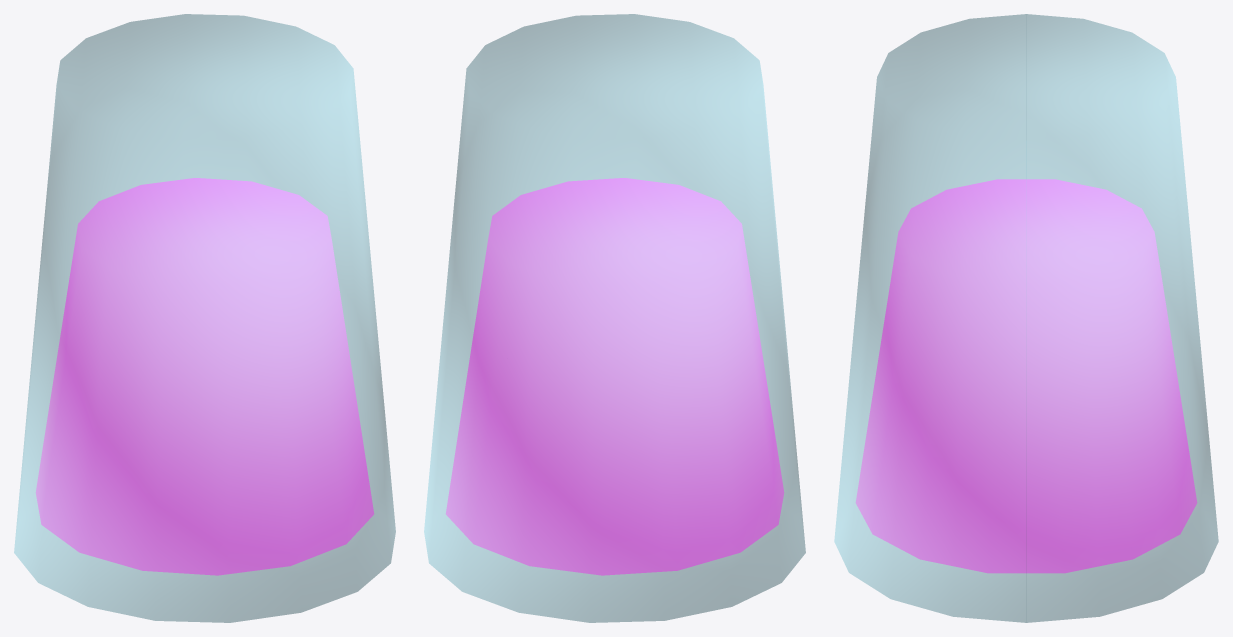
The model's file is cup_tumbler.glb.
The picture shows the model from 3 angles, left to right: view 1: azimuth 30°, elevation 25°; view 2: azimuth 150°, elevation 25°; view 3: azimuth 270°, elevation 25°; orthographic projection.
Visible parts, largest first — view 1: GD_cup_tumbler__m0, GD_cup_tumbler__m1; view 2: GD_cup_tumbler__m0, GD_cup_tumbler__m1; view 3: GD_cup_tumbler__m0, GD_cup_tumbler__m1.
Part boxes in pixels (x1,y1,x2,y2): GD_cup_tumbler__m0: (14, 14, 395, 622); GD_cup_tumbler__m1: (35, 178, 374, 575); GD_cup_tumbler__m0: (424, 14, 805, 622); GD_cup_tumbler__m1: (445, 178, 784, 575); GD_cup_tumbler__m0: (834, 14, 1218, 622); GD_cup_tumbler__m1: (855, 179, 1197, 573).
Size of the model in its own units: 0.09 by 0.12 by 0.09.
